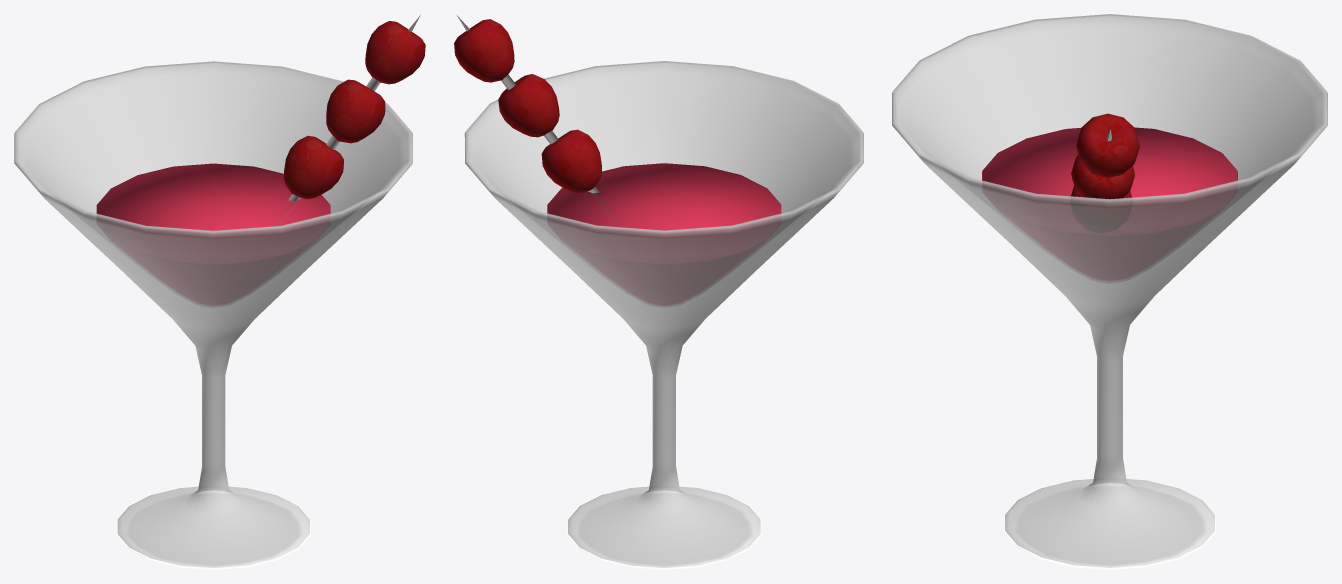
Rendered from cocktail.glb.
3 views of the same model, side by side, from view 1: azimuth 30°, elevation 25°; view 2: azimuth 150°, elevation 25°; view 3: azimuth 270°, elevation 25° (orthographic). The views are drawn at different scales.
Visible parts, largest first — view 1: drink in martini glass_drink in martini glass_0; view 2: drink in martini glass_drink in martini glass_0; view 3: drink in martini glass_drink in martini glass_0.
Boxes of the visible parts, left/top/right/bottom form: drink in martini glass_drink in martini glass_0: left=14, top=15, right=425, bottom=569; drink in martini glass_drink in martini glass_0: left=454, top=15, right=863, bottom=569; drink in martini glass_drink in martini glass_0: left=892, top=14, right=1327, bottom=569.
Bounding box in the file's own units: 0.1419 × 0.1643 × 0.1278.
Materials: 1 (1 with a texture image).
